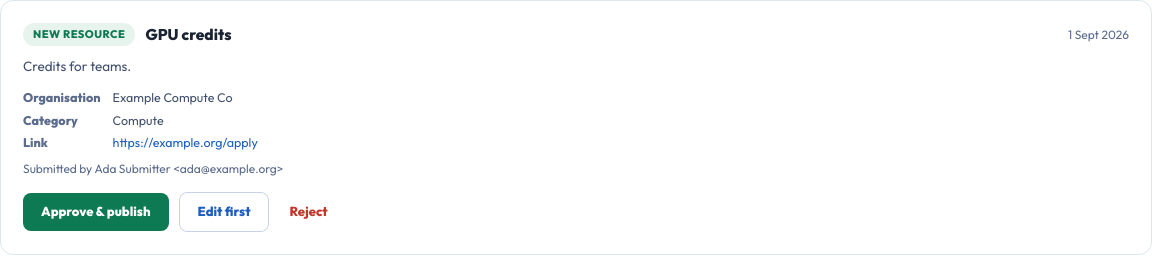
ReviewCard › sends the submission id on approve and reports the refusal by reason
The image size is (1152, 272).
Click the button "Approve & publish". click: (96,212)
box: 23,193 -> 169,231
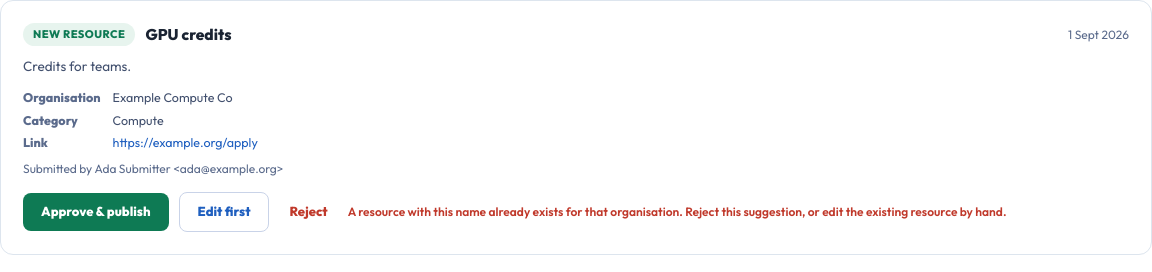
Expected: the text "A resource with this name already exists for that organisation. Reject this suggestion, or edit the existing resource by" is shown, 348,204 -> 1006,219
